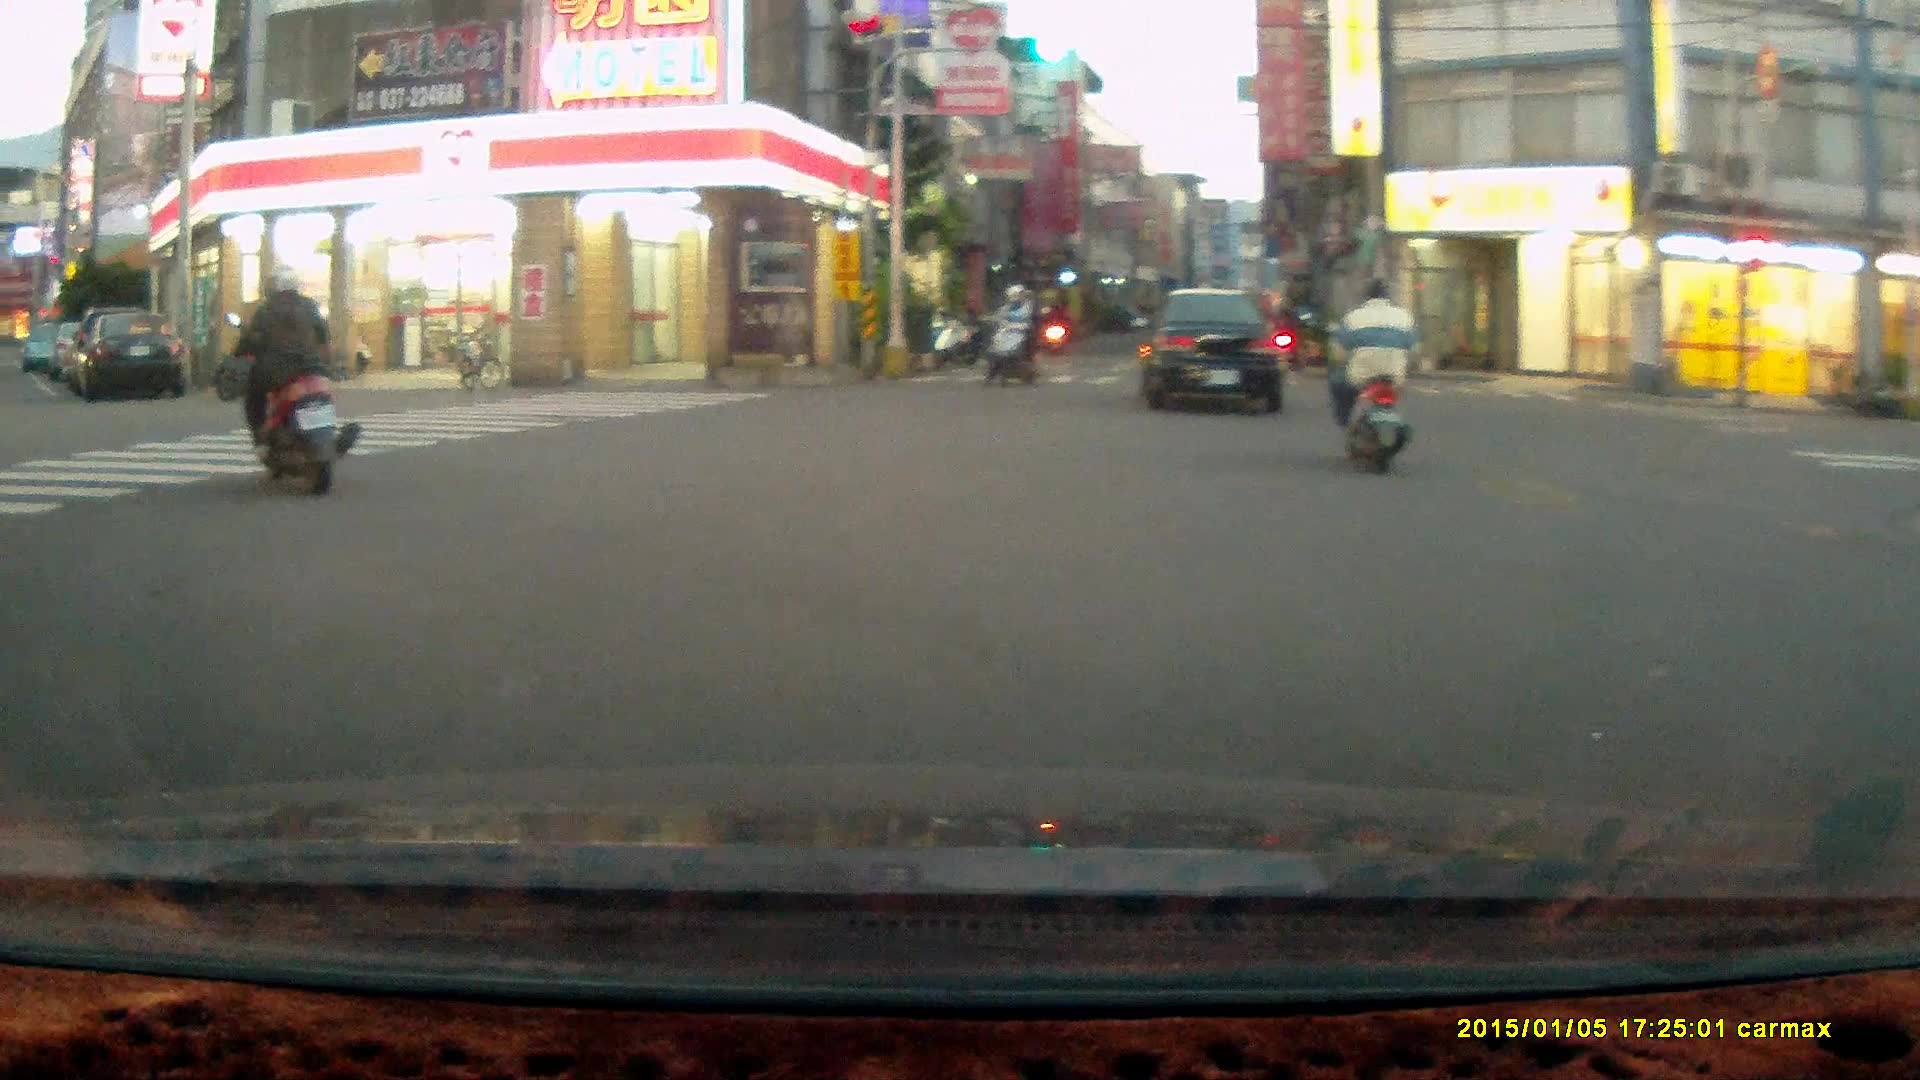rider: (221, 264, 357, 497), (1326, 276, 1417, 475), (983, 281, 1043, 387)
vehicle: (1139, 283, 1289, 418), (80, 308, 196, 396)
